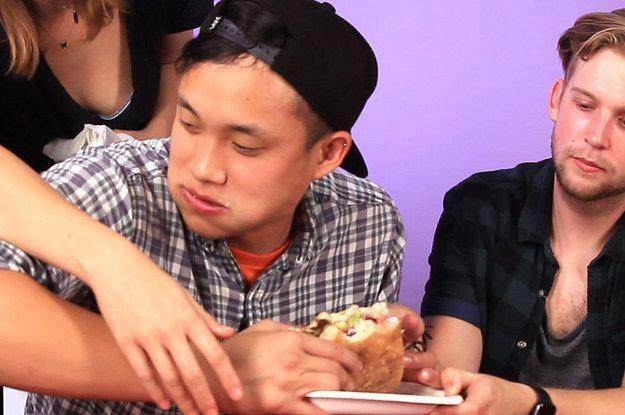Drunk: (173, 71, 300, 238), (556, 60, 625, 196)
